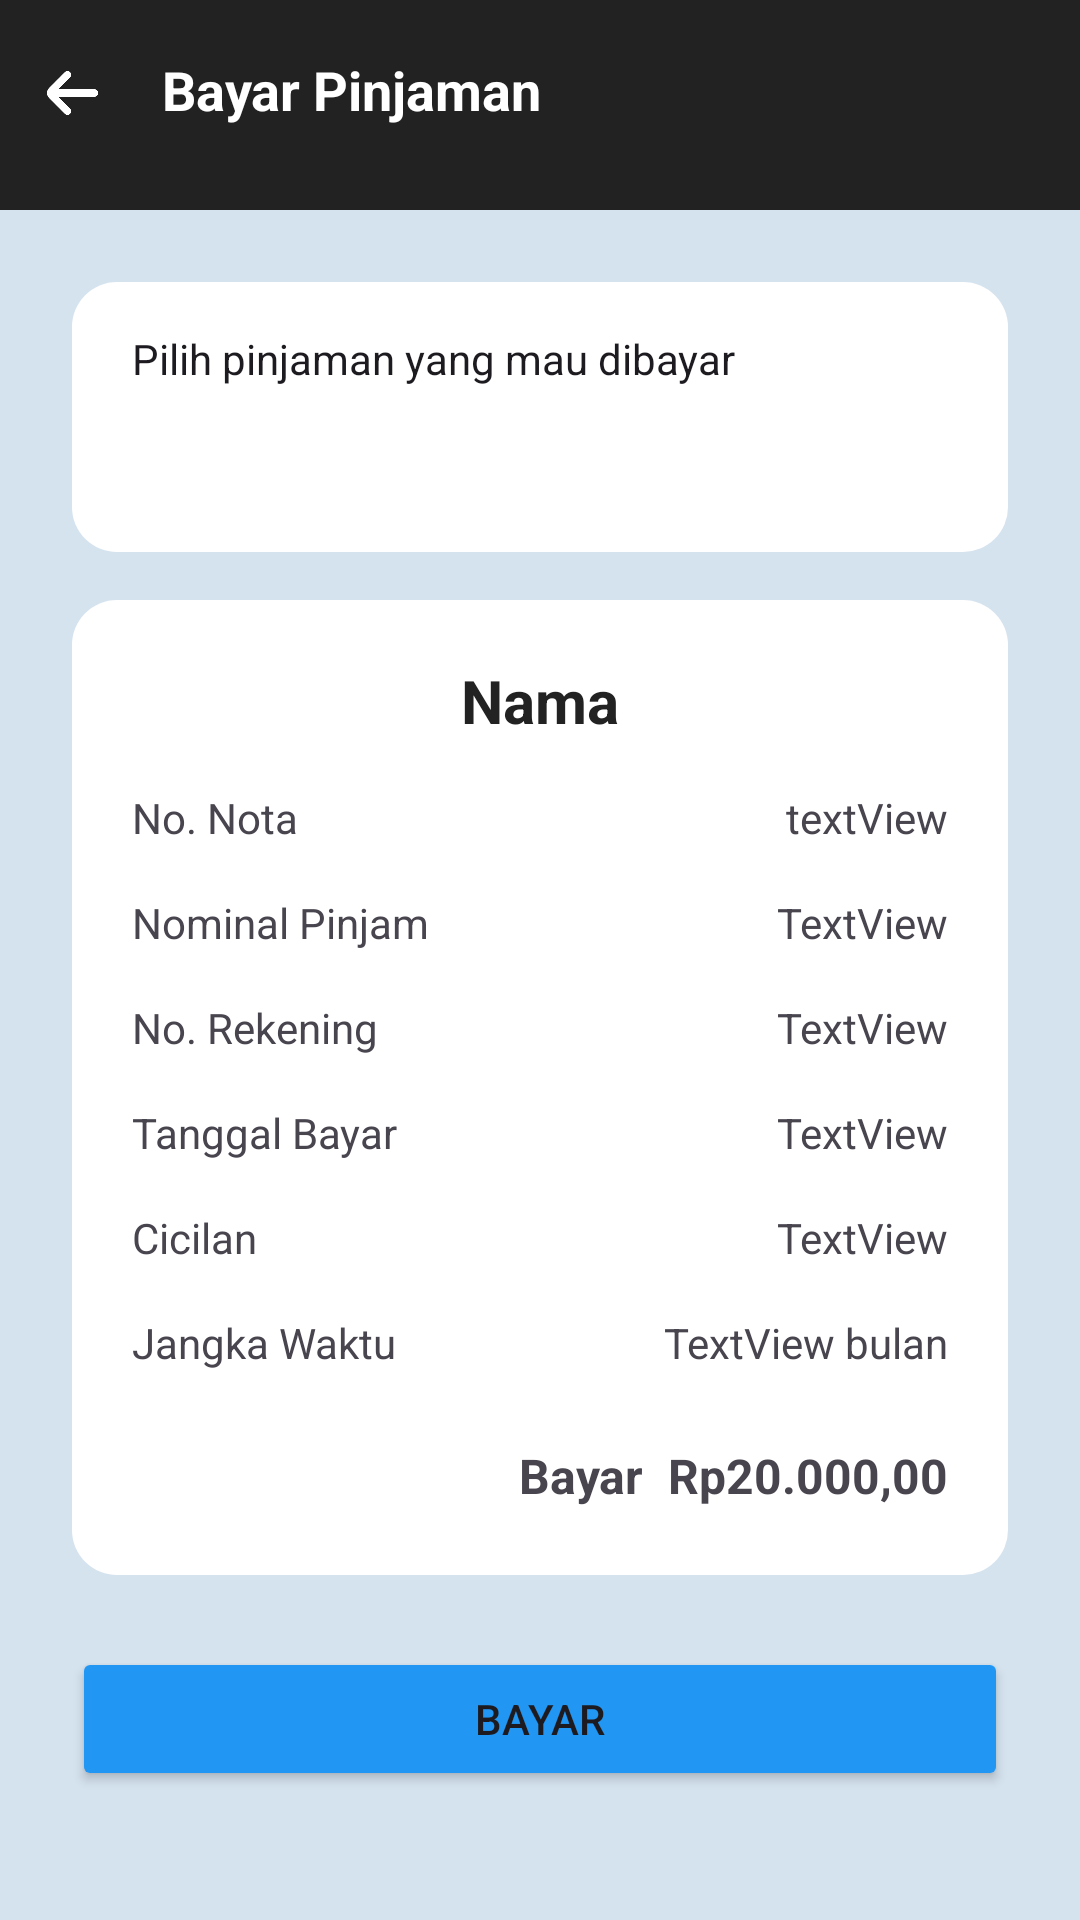

Icons on this 1080px×1920px Android screen, each with the point to tap as (x,y):
arrow: (72,93)
